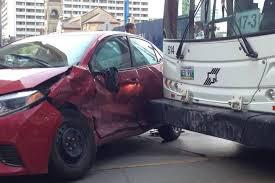doorouter-dent: (94, 56, 142, 131)
fender-dent: (52, 77, 91, 114)
